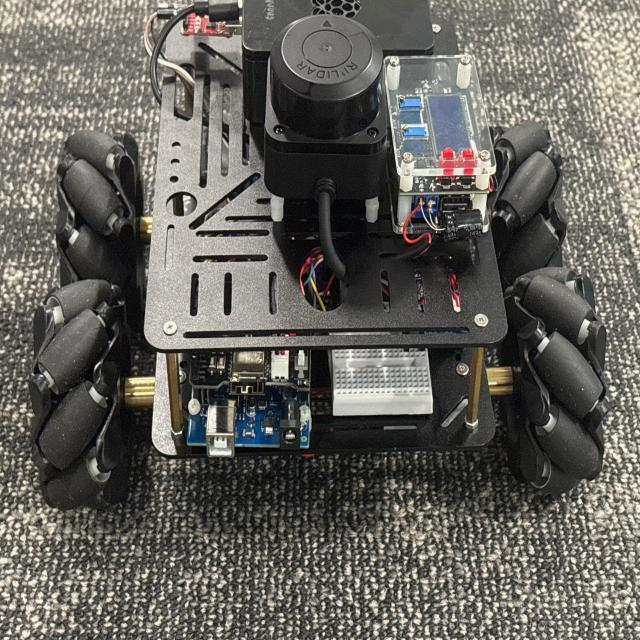ArduinoCar3: (41, 1, 608, 520)
